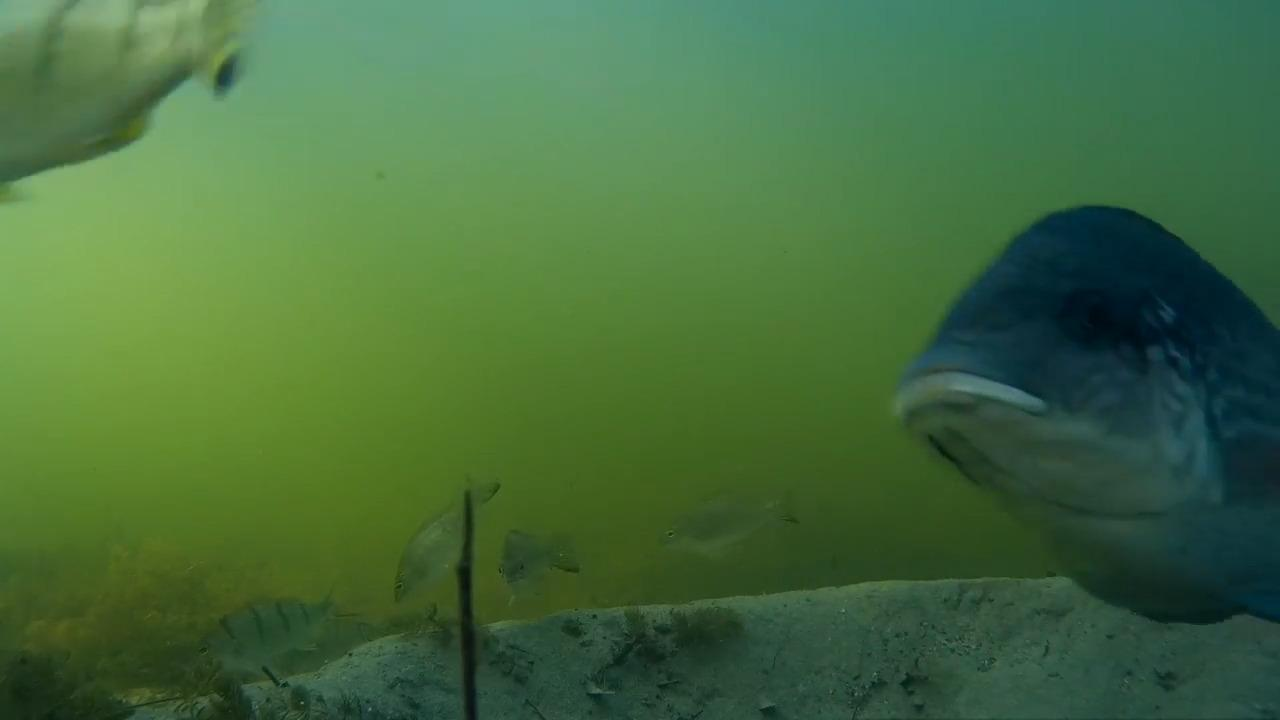Tilapia: (880, 198, 1280, 553), (462, 574, 1280, 718), (0, 0, 267, 208), (397, 472, 492, 598), (659, 485, 812, 556), (488, 522, 593, 600)
